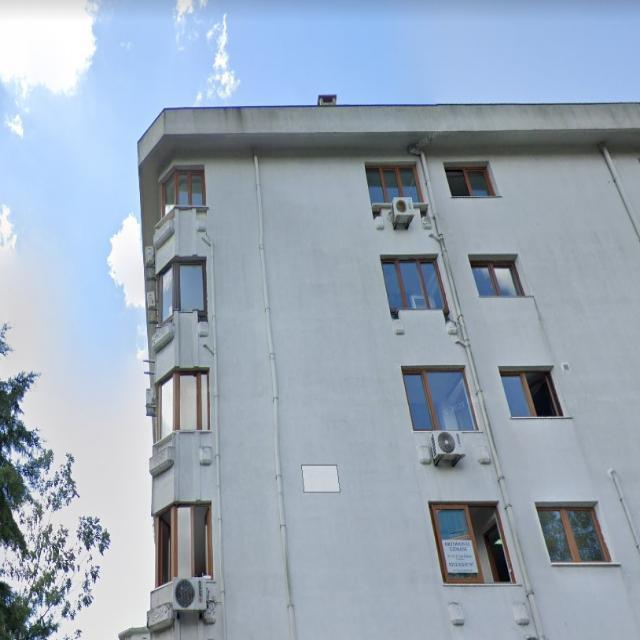Building: (135, 102, 640, 639)
